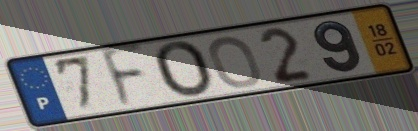2: (257, 25, 320, 87)
7: (50, 53, 96, 114)
9: (311, 18, 366, 76)
F: (97, 41, 149, 113)
O: (150, 39, 217, 100), (206, 34, 264, 90)
